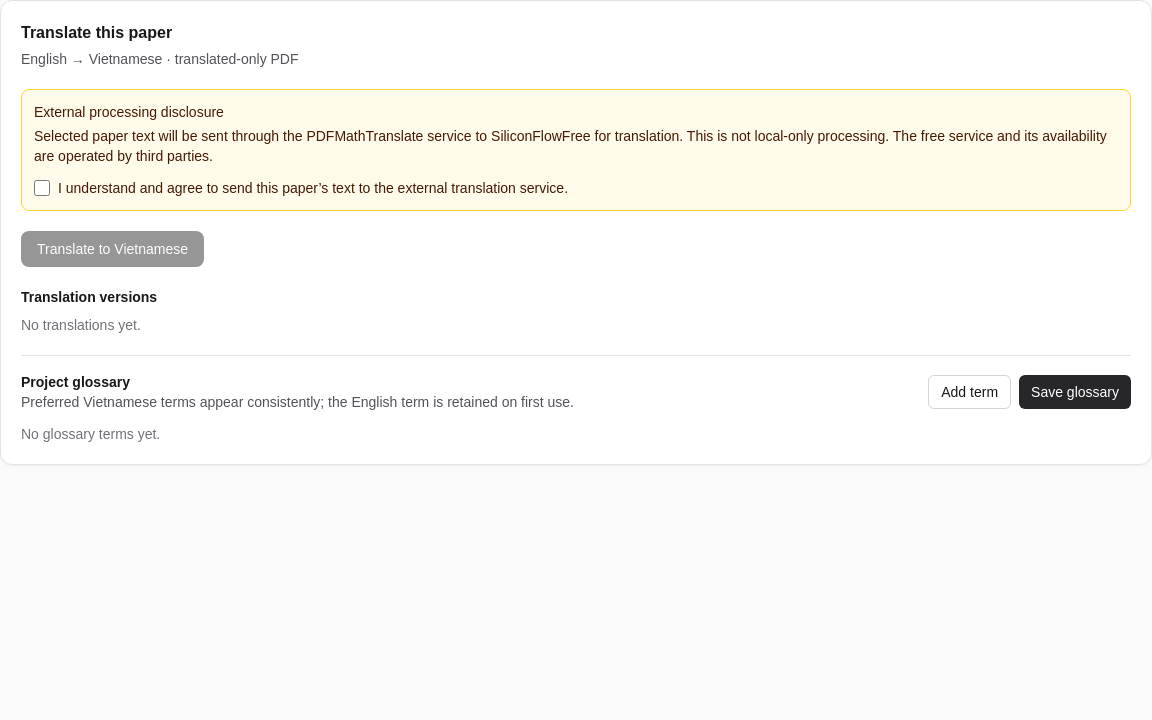
TranslationPanel › requires external-processing acknowledgement before submitting English to Vietnamese
Expected: the text "No translations yet." is shown, [21, 317, 141, 333]
Expected: the text "English → Vietnamese · translated-only PDF" is shown, [21, 51, 298, 67]
Click the checkbox named "external translation service" at [42, 188], box [34, 180, 50, 196]
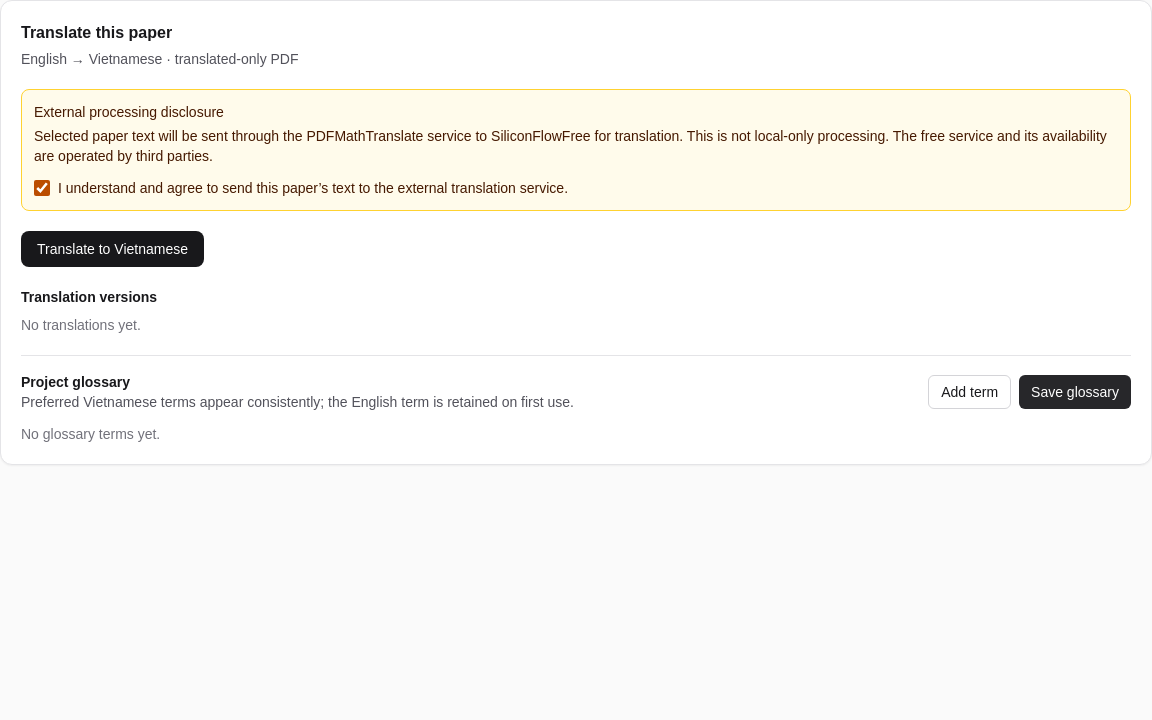
Expected: the button "Translate to Vietnamese" is enabled
Click the button "Translate to Vietnamese" at [112, 249], box [21, 231, 204, 267]
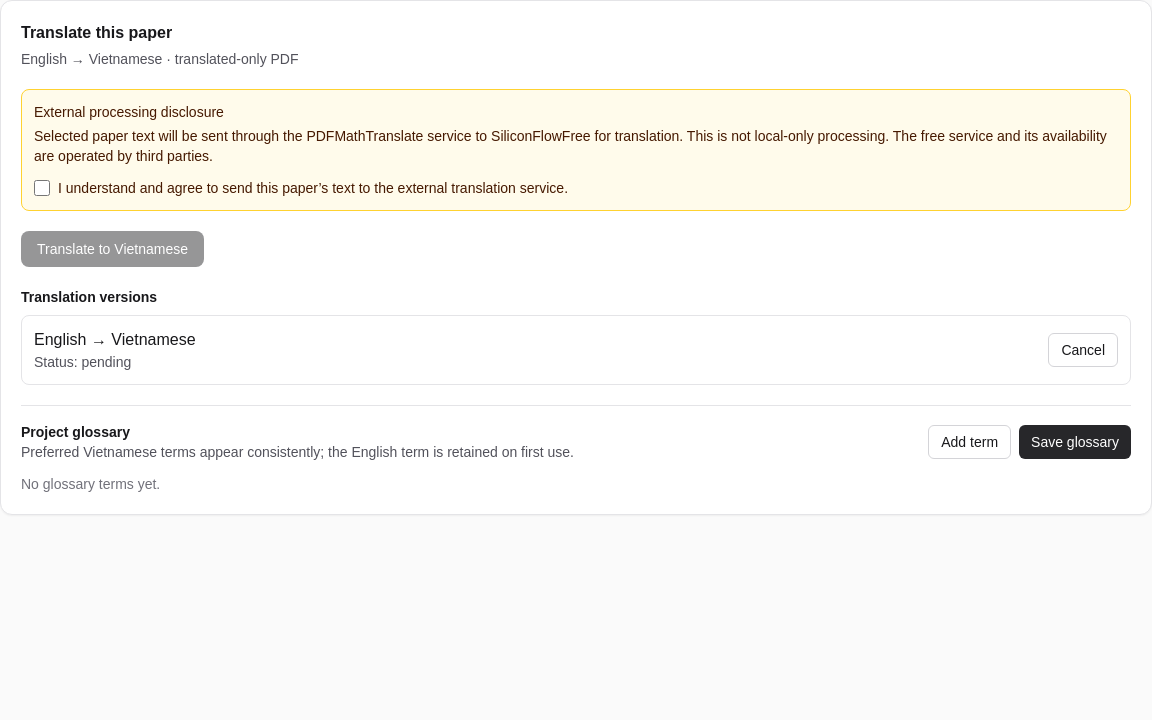
Expected: the text "Status: pending" is shown, [34, 354, 131, 370]
